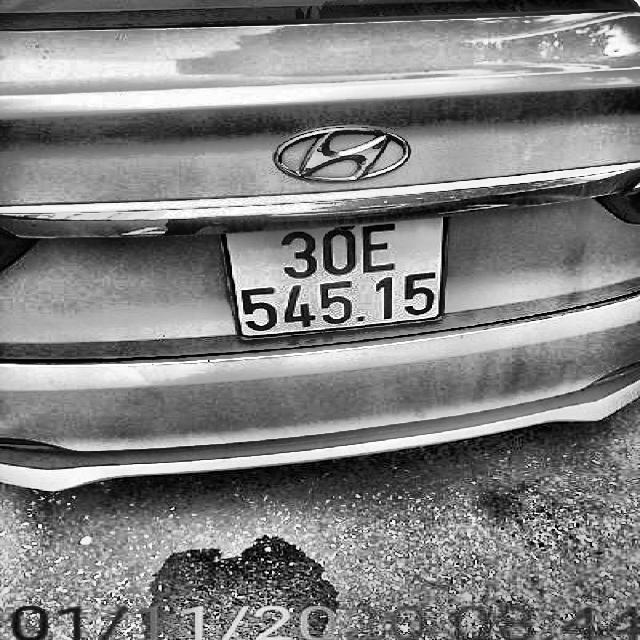plate: (218, 205, 464, 345)
